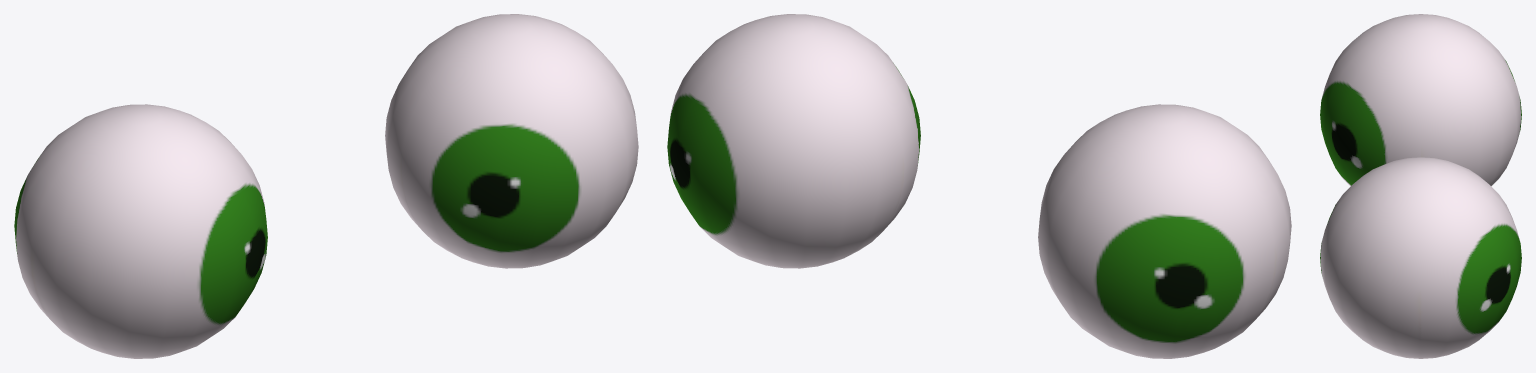
File: Props_CrazyEyes.fbx
3 views of the same model, side by side, from view 1: azimuth 30°, elevation 25°; view 2: azimuth 150°, elevation 25°; view 3: azimuth 270°, elevation 25° (orthographic). The views are drawn at different scales.
Visible parts, largest first — view 1: CrazyEyesLeft, CrazyEyesRight; view 2: CrazyEyesRight, CrazyEyesLeft; view 3: CrazyEyesRight, CrazyEyesLeft.
Part boxes in pixels (x1=…): CrazyEyesLeft: x1=14, y1=104, x2=267, y2=358; CrazyEyesRight: x1=385, y1=14, x2=638, y2=268; CrazyEyesRight: x1=667, y1=14, x2=920, y2=268; CrazyEyesLeft: x1=1038, y1=104, x2=1291, y2=358; CrazyEyesRight: x1=1320, y1=157, x2=1521, y2=358; CrazyEyesLeft: x1=1320, y1=14, x2=1521, y2=186.
Bounding box in the file's own units: 12.9 × 4.82 × 4.82.
